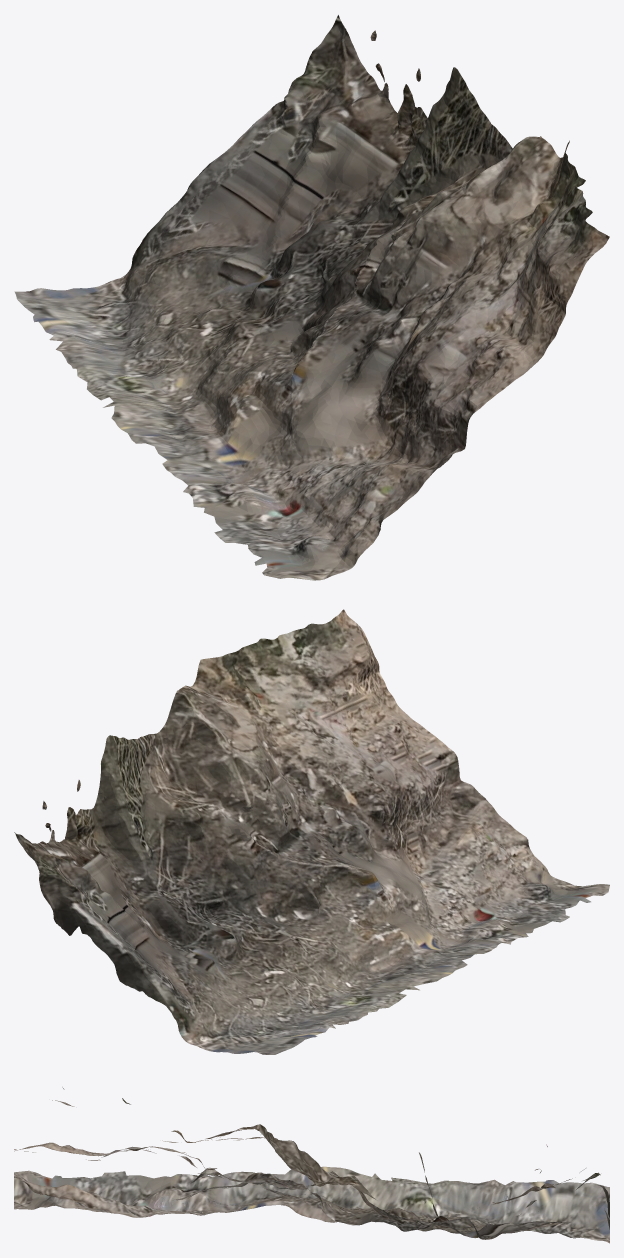
3 renders of one model, top to bottom at view 1: azimuth 30°, elevation 25°; view 2: azimuth 150°, elevation 25°; view 3: azimuth 270°, elevation 25°, orthographic. The views are drawn at different scales.
Size of the model in its own units: 1.74 by 1.12 by 2.53.
2 materials, 2 textured.
